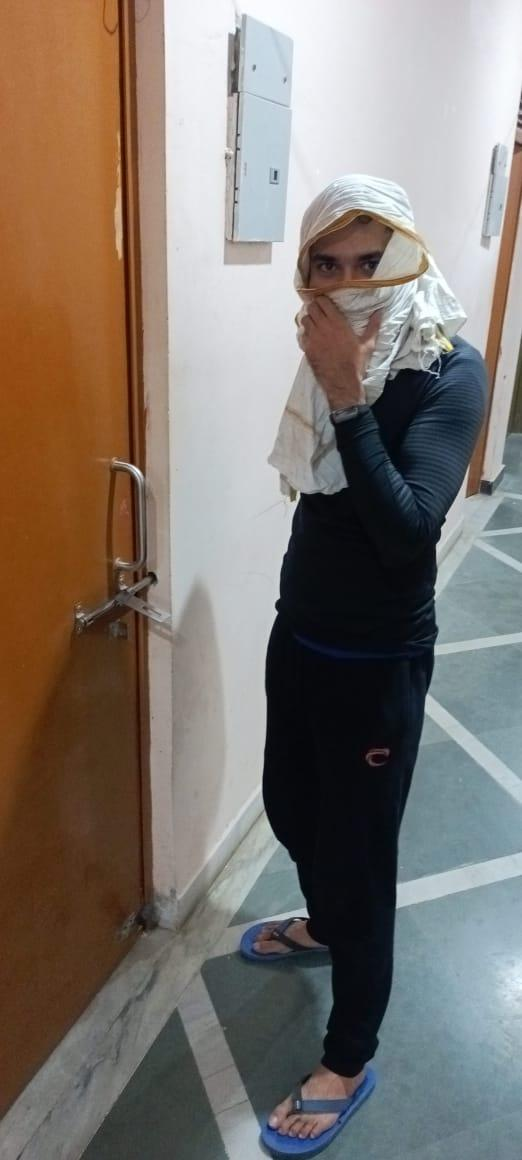suspicion: (173, 160, 522, 1160)
